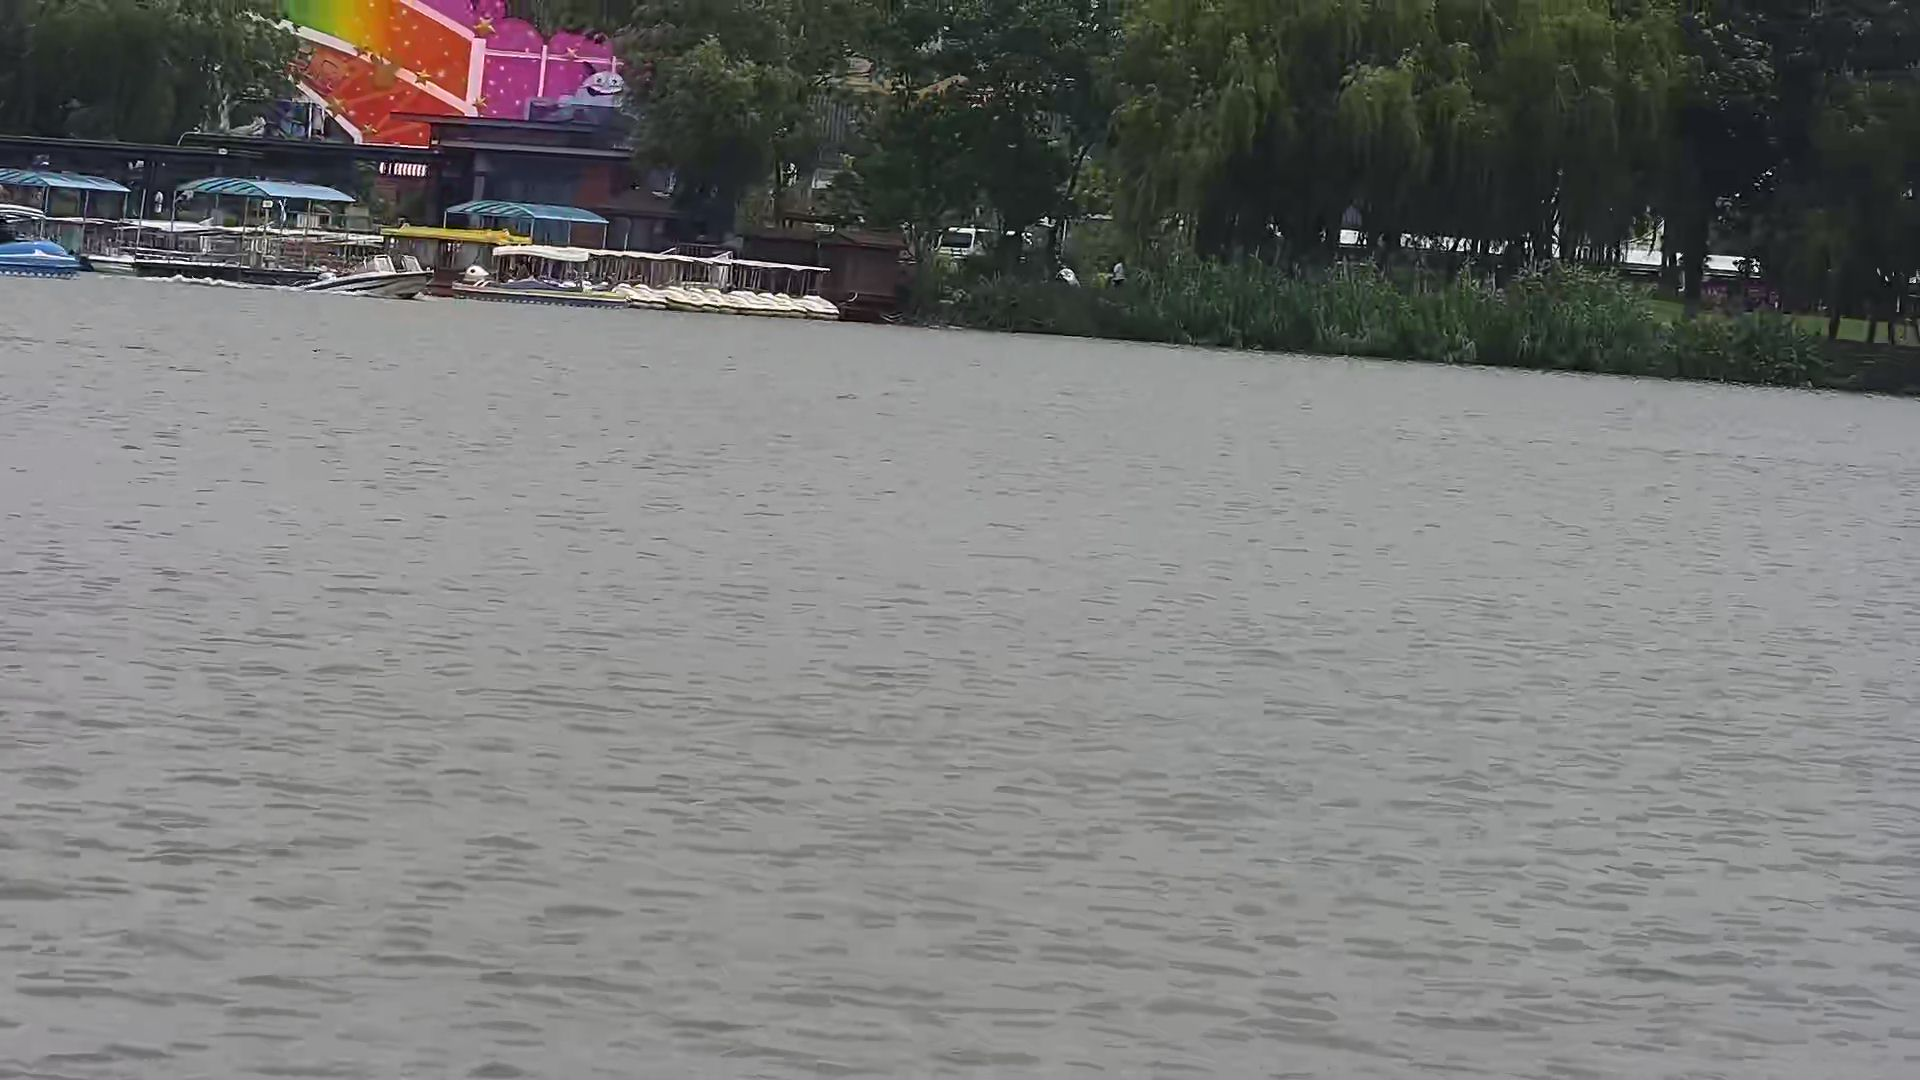harbor: (4, 152, 851, 320)
